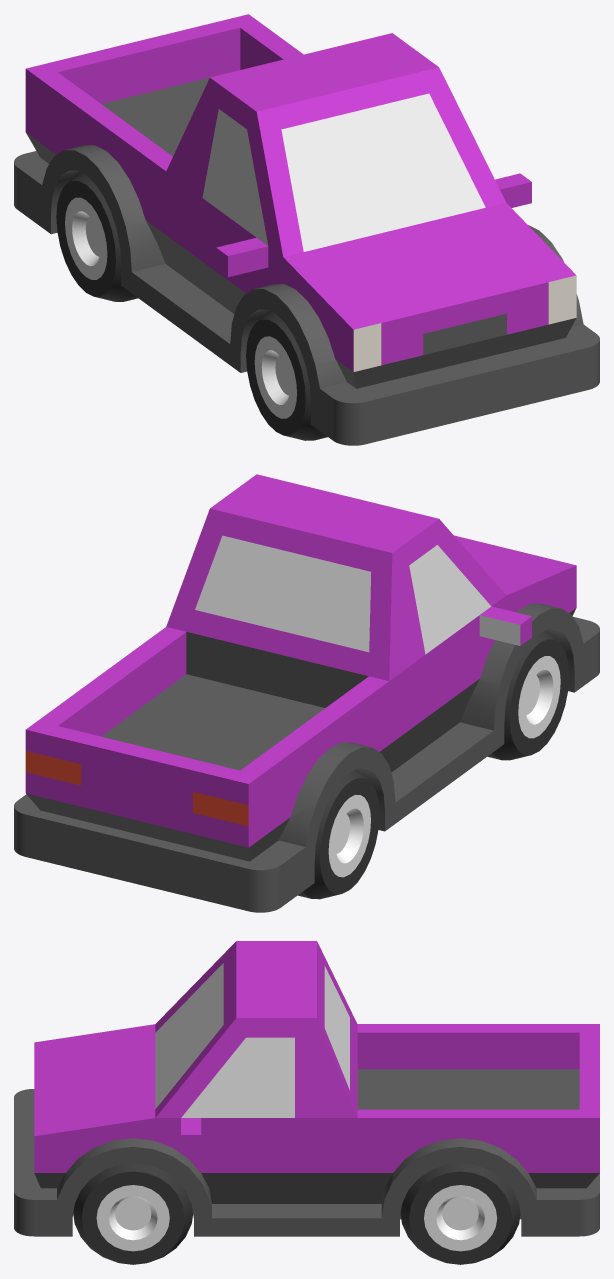
Rendered from truck_pink.fbx.
The picture shows the model from 3 angles, top to bottom: view 1: azimuth 30°, elevation 25°; view 2: azimuth 150°, elevation 25°; view 3: azimuth 270°, elevation 25°; orthographic projection. The views are drawn at different scales.
Visible parts, largest first — view 1: truck; view 2: truck; view 3: truck.
Boxes of the visible parts, left/top/right/bottom form: truck: left=14, top=14, right=599, bottom=445; truck: left=14, top=474, right=599, bottom=912; truck: left=14, top=941, right=599, bottom=1264.
Size of the model in its own units: 11.25 by 9.75 by 21.75.
